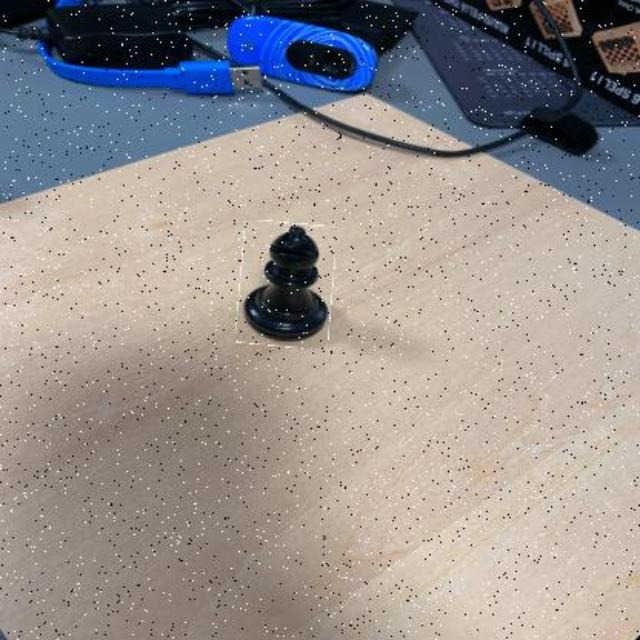black-bishop: (238, 222, 334, 348)
